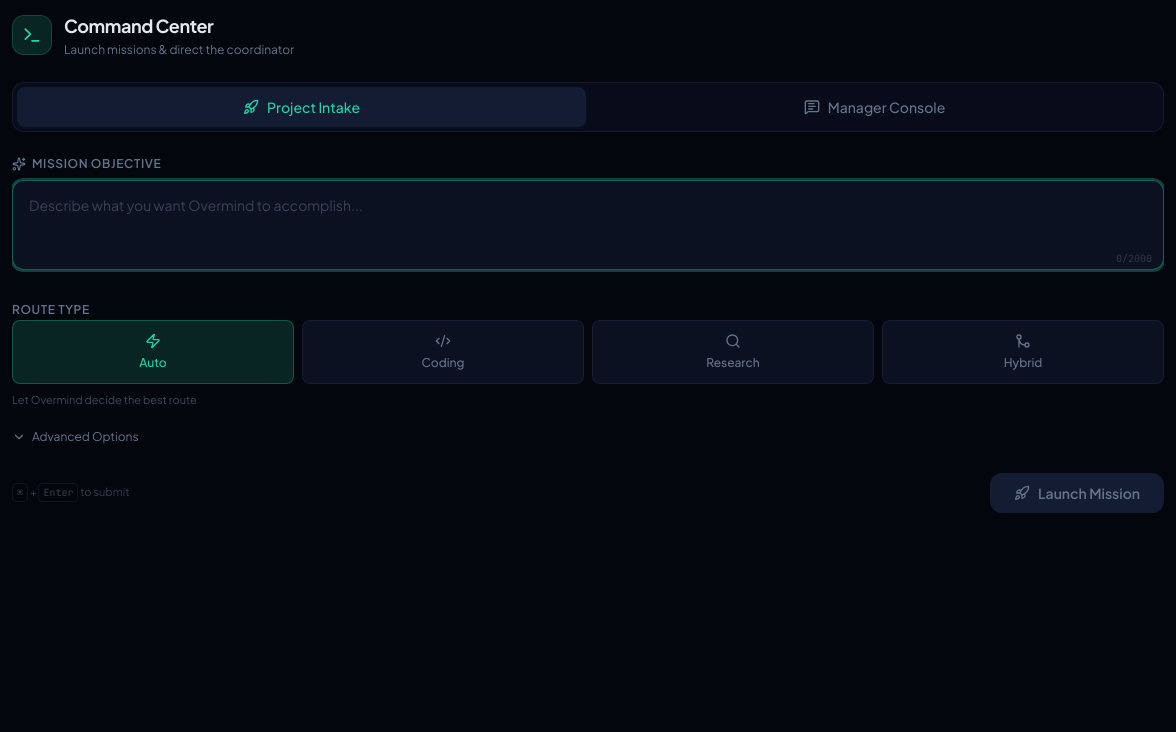
ControlPage › Intake Tab › shows error message on failure
In the text box with placeholder "Describe what you want Overmind to accomplish...": coordinates (588, 225) [12,180,1164,270], type "Build a widget"
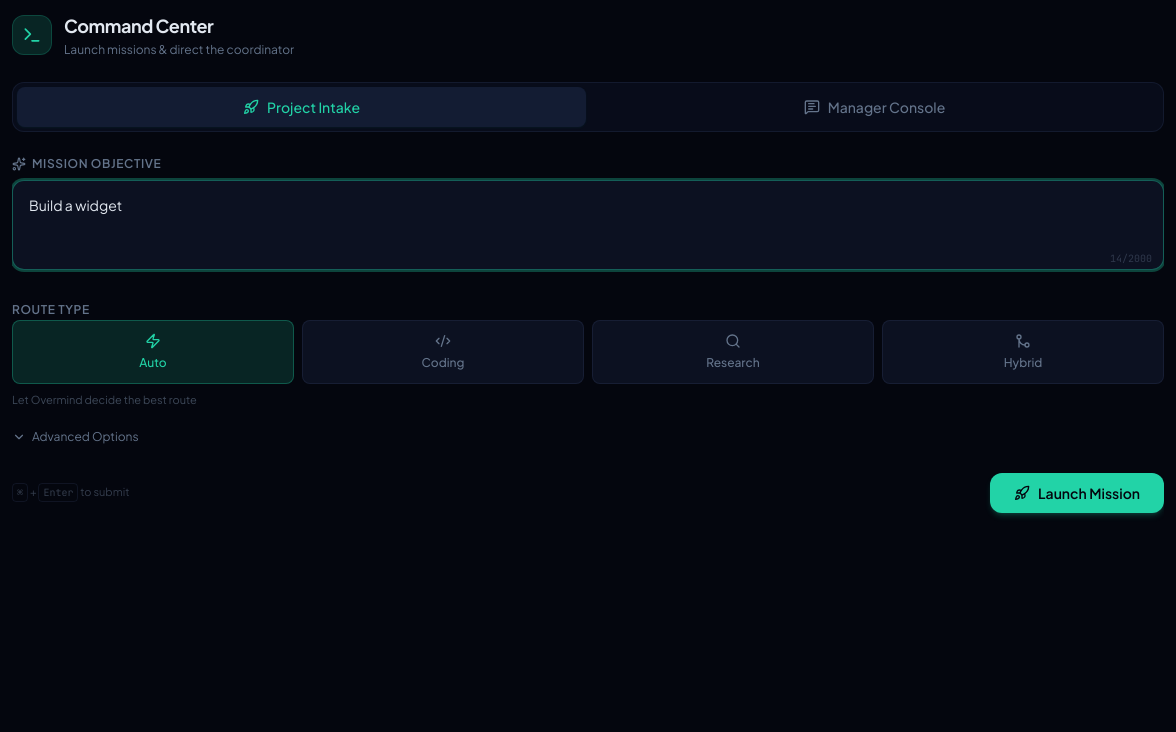
# Use click on the form button — the mutation error is caught internally
Click the button "Launch Mission": coordinates (1077, 492) [990,472,1164,512]
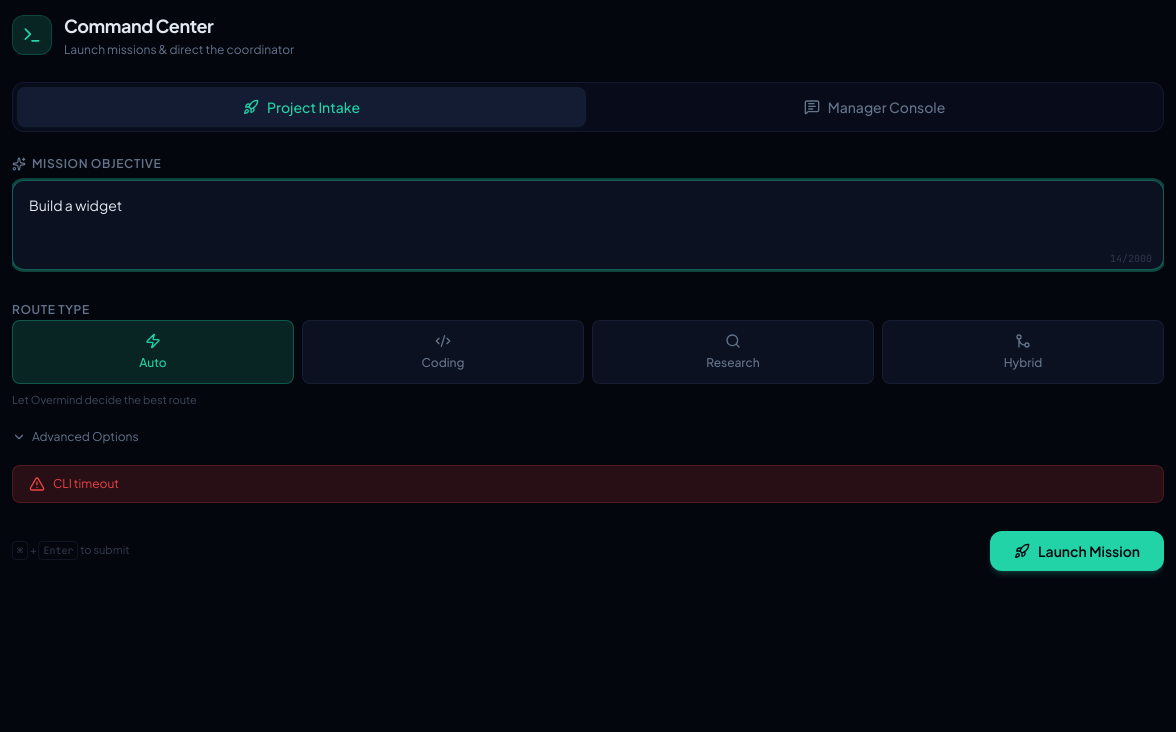
Check: the text "CLI timeout" is shown, box [53,476,119,492]
